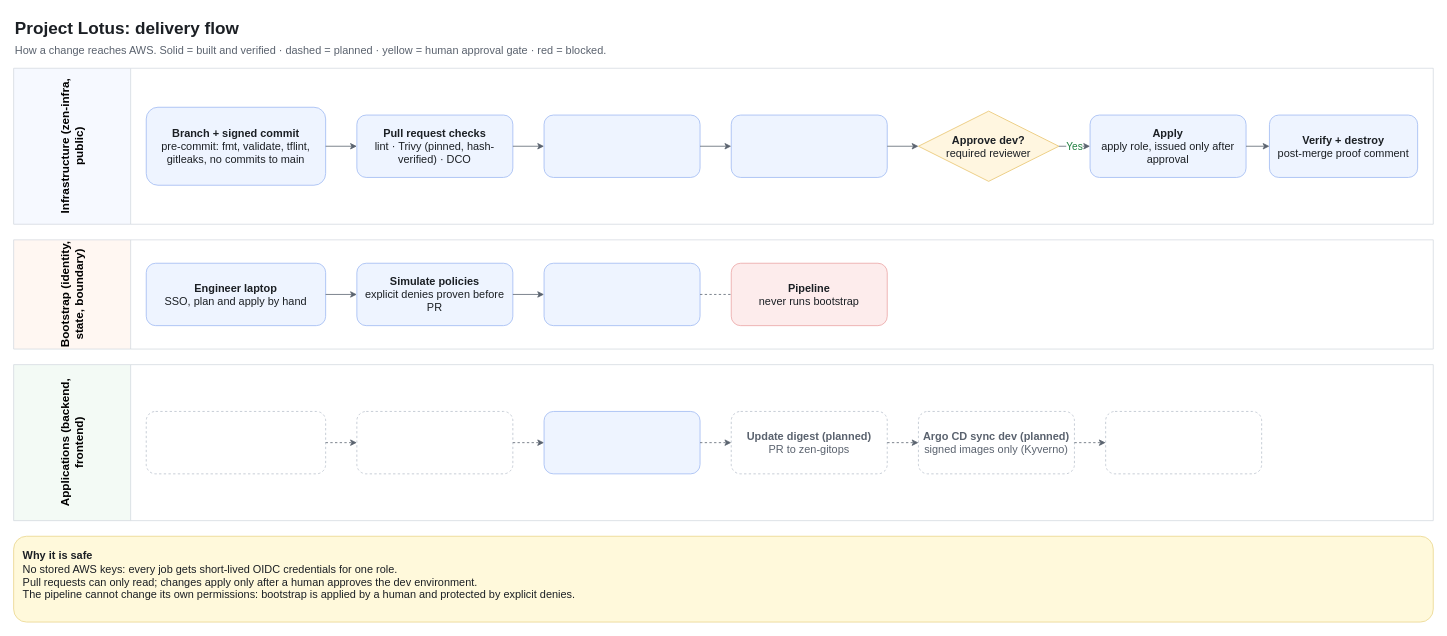
This 1447x636 diagram has some shape labels left out. The centre of each missing label's shape, as x and y in pixels:
Build image (planned) image scan · SBOM · cosign signature: pixel 434 442
Plan comment read-only plan role (OIDC) · account ID masked: pixel 621 145
PR records the change code matches what is live: pixel 621 294
Promote qa, prod (planned) by PR · manual sync in prod: pixel 1183 442
Pull request (planned) build · unit tests · SAST · dependency scan: pixel 235 442
Push to ECR main only (OIDC role) · immutable tag: pixel 621 442
Review squash merge to main: pixel 808 145
